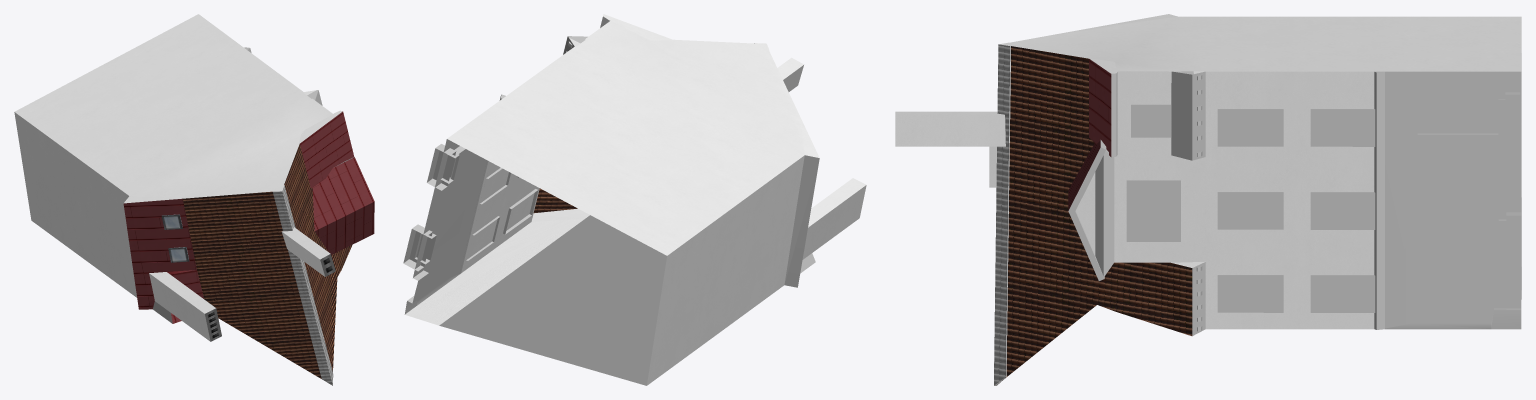
The model's file is Kinga_5.obj.
3 views of the same model, side by side, from view 1: azimuth 30°, elevation 25°; view 2: azimuth 150°, elevation 25°; view 3: azimuth 270°, elevation 25° (orthographic). The views are drawn at different scales.
Visible parts, largest first — view 1: Kinga_5; view 2: Kinga_5; view 3: Kinga_5.
Part boxes in pixels (bbox=[...]): Kinga_5: bbox=[14, 14, 374, 385]; Kinga_5: bbox=[403, 14, 866, 385]; Kinga_5: bbox=[895, 14, 1521, 385].
Size of the model in its own units: 14.13 by 13.22 by 21.48.
